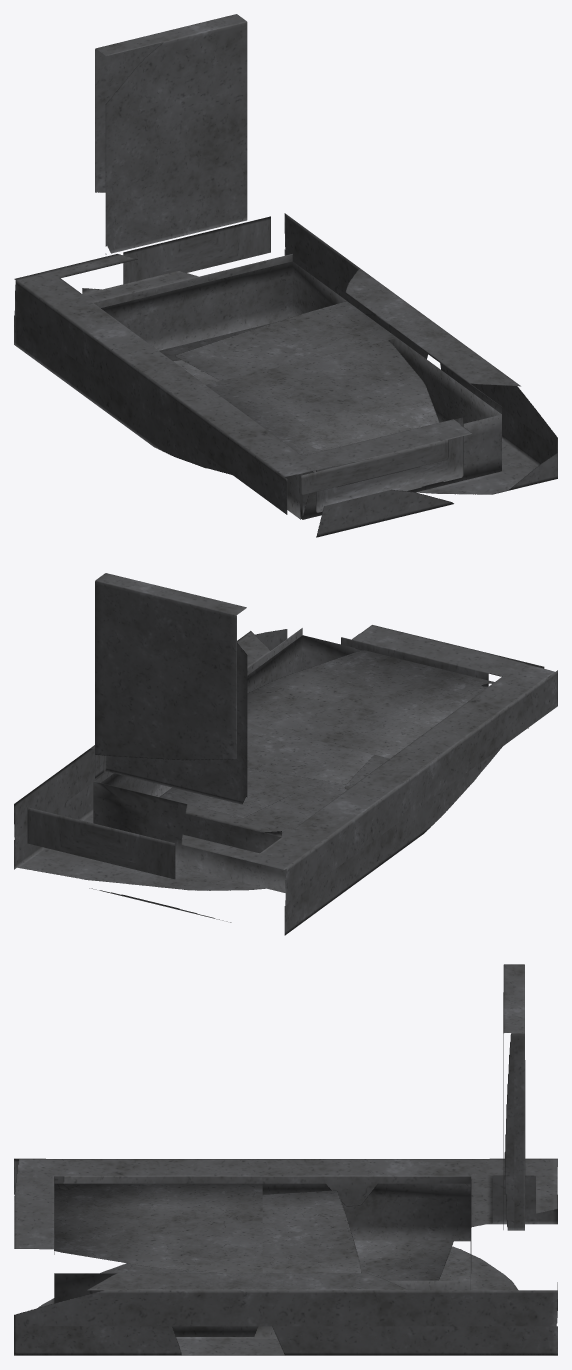
Rendered from grave_08.fbx.
The picture shows the model from 3 angles, top to bottom: view 1: azimuth 30°, elevation 25°; view 2: azimuth 150°, elevation 25°; view 3: azimuth 270°, elevation 25°; orthographic projection.
Visible parts, largest first — view 1: grave.007; view 2: grave.007; view 3: grave.007.
Part boxes in pixels (box(x1,y1,x2,y2)): grave.007: box(14, 14, 557, 537); grave.007: box(14, 573, 557, 935); grave.007: box(14, 964, 557, 1355).
Size of the model in its own units: 199 by 206 by 349.
